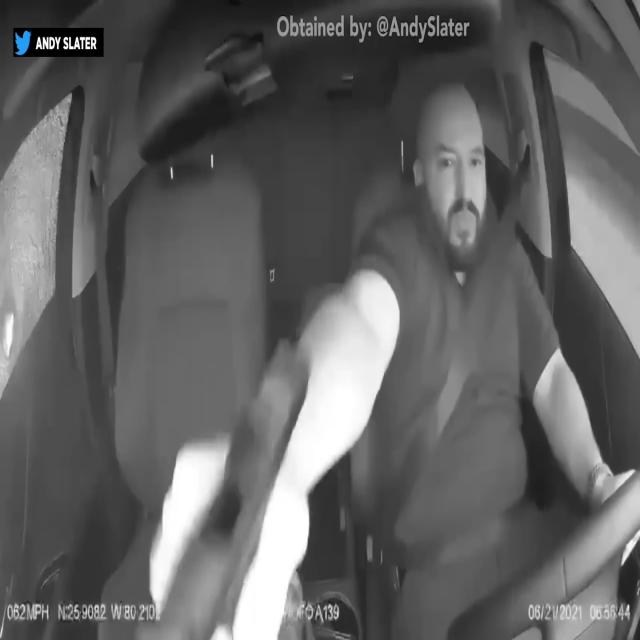senjata_api: (146, 332, 310, 640)
